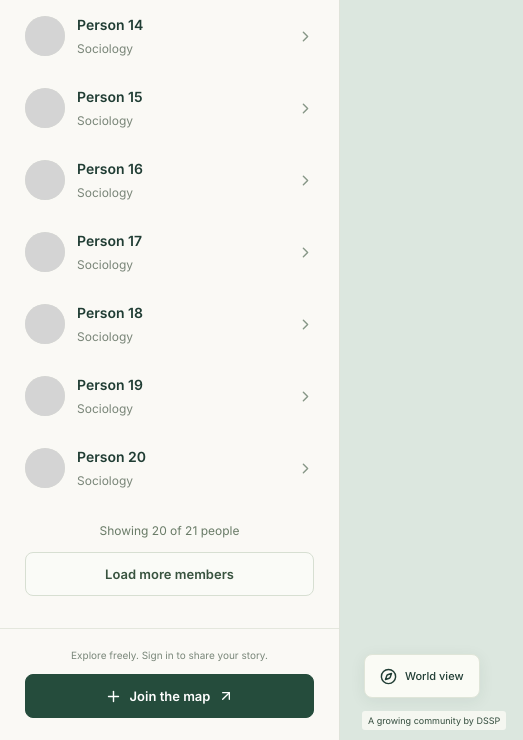
Test case: member directory pagination and photos › offers manual loading without an observer and falls back to initials for broken or unsafe photos
(page scrolled)
expect the text "Showing 20 of 21 people" is shown: met, box [100,523,240,538]
Click the button "Load more members": (170,574) [25,552,314,596]
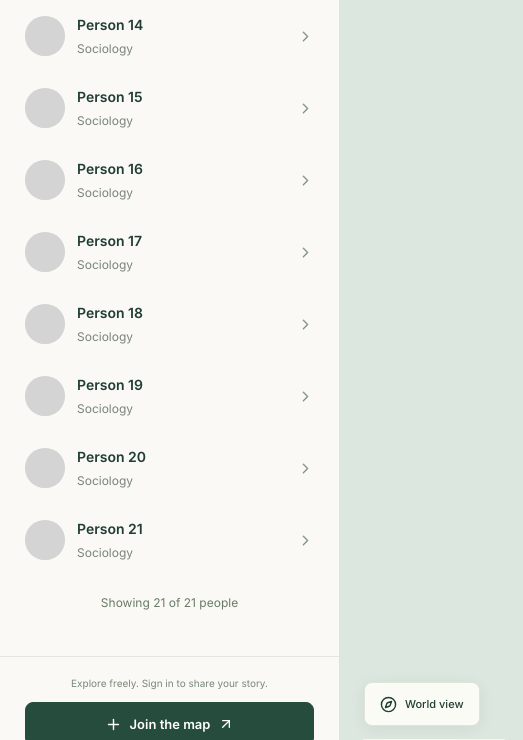
expect the text "Showing 21 of 21 people" is shown: met, box [101,595,238,610]
